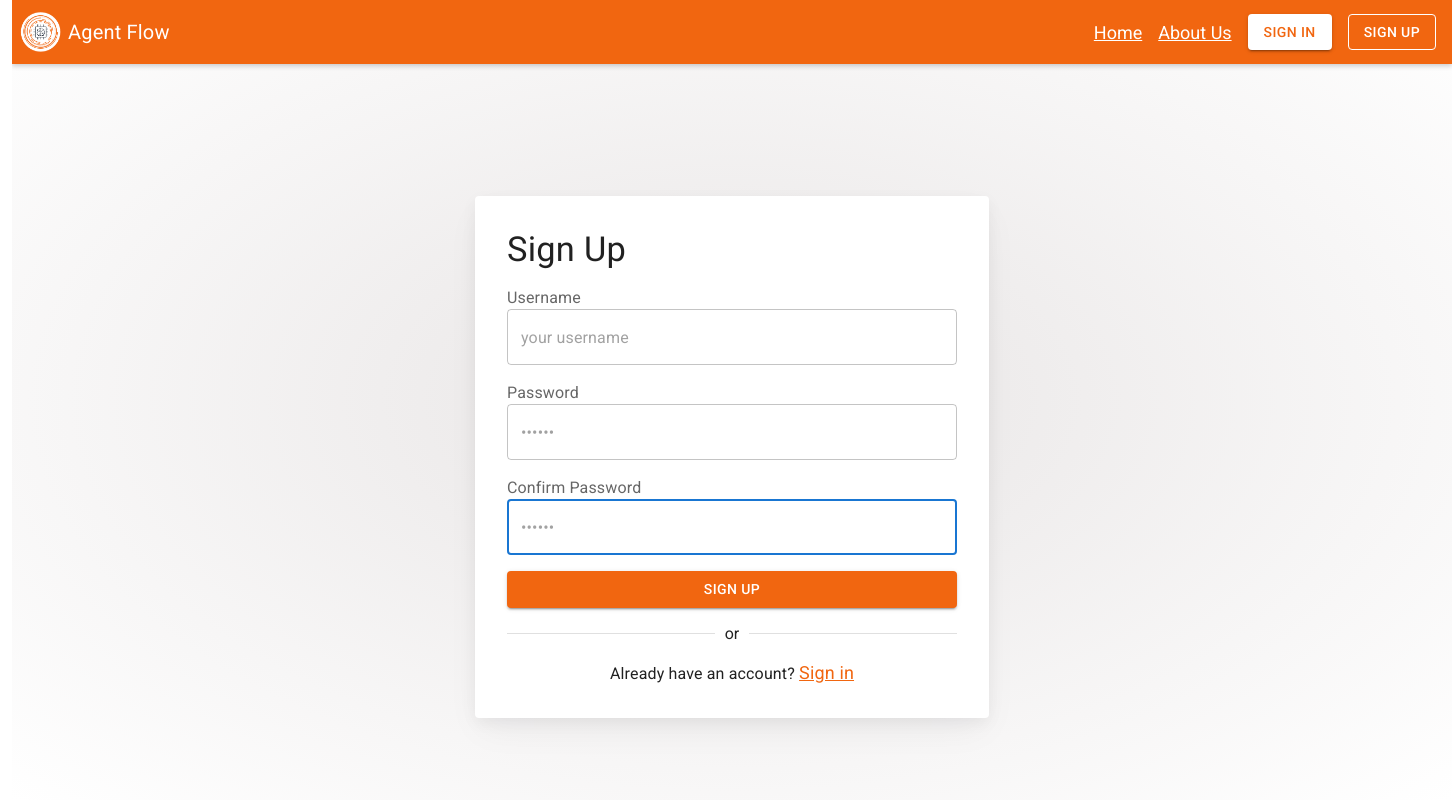
Test: Registrazione TS7-TS11 › TS11 - L'utente non autenticato riceve un messaggio di errore in caso abbia inserito credenziali non valide per la registrazione
What coordinates should you click on to do the following:
click the button with test id "signup-submit"
I would click on:
 (732, 591)
Its box is [507,572,957,609].
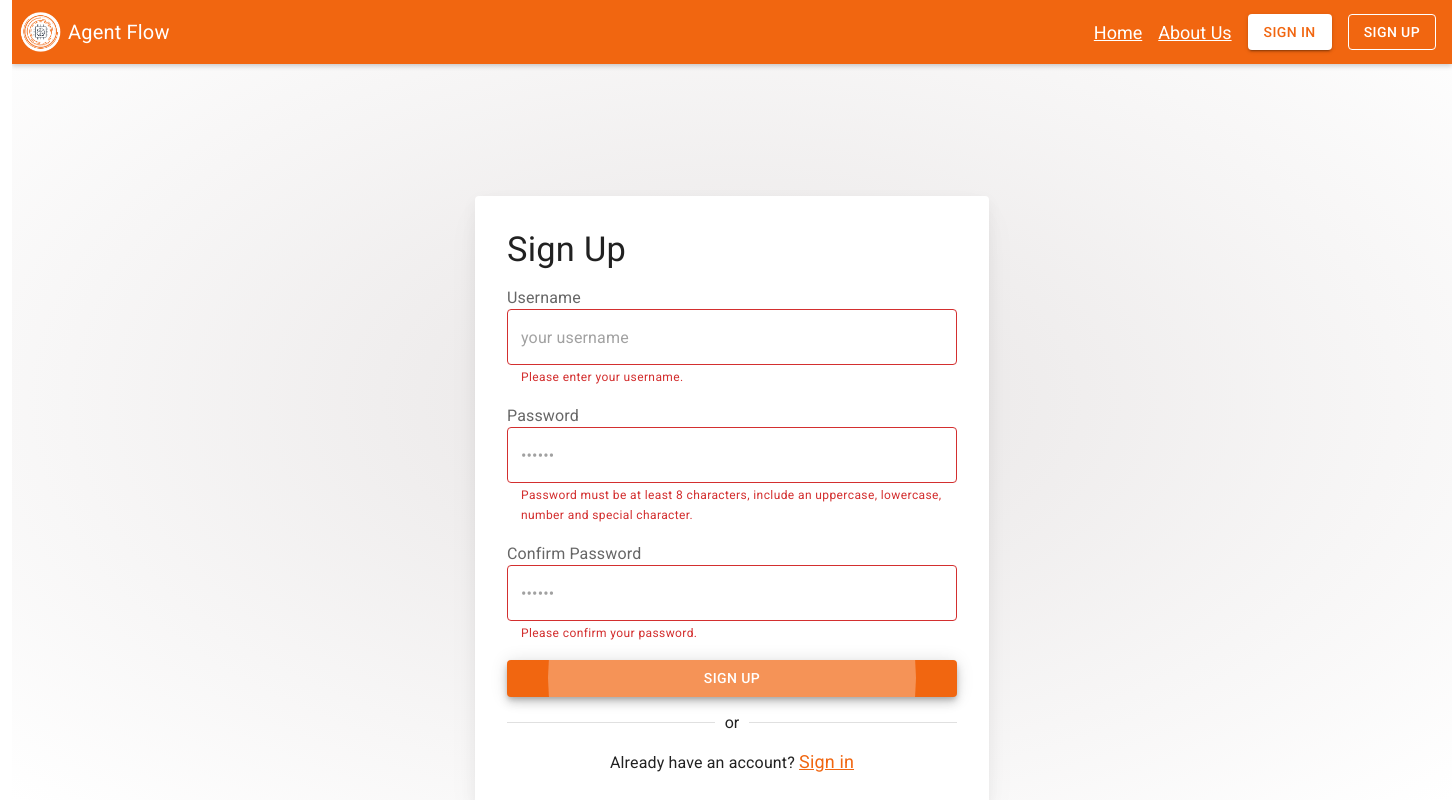
Check: the text "Please enter your username." is shown, box [521,370,684,384]
Check: the text "Please confirm your password." is shown, box [521,626,697,640]
